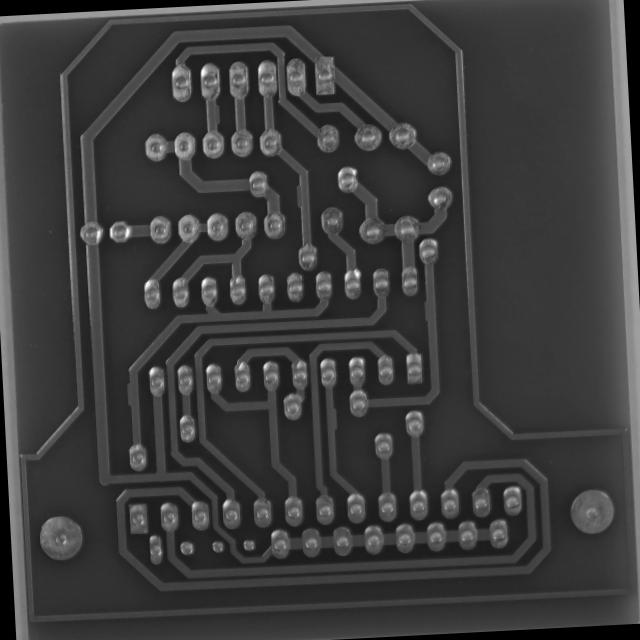spur: (289, 181, 317, 213), (197, 100, 228, 128), (323, 403, 342, 434), (417, 296, 438, 324), (124, 379, 138, 408)
